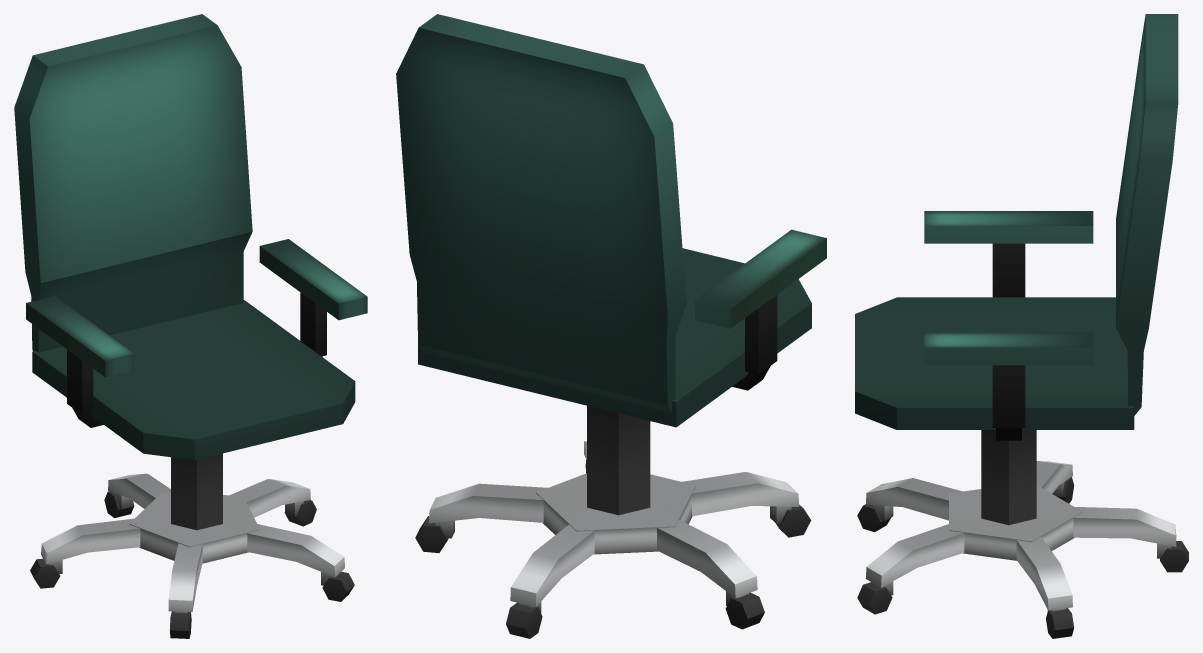
Rendered from Chair_Office_Turquoise.fbx.
3 renders of one model, left to right at view 1: azimuth 30°, elevation 25°; view 2: azimuth 150°, elevation 25°; view 3: azimuth 270°, elevation 25°, orthographic. The views are drawn at different scales.
Visible parts, largest first — view 1: Chair_Office_Turquoise; view 2: Chair_Office_Turquoise; view 3: Chair_Office_Turquoise.
Part boxes in pixels (x1,y1,x2,y2): Chair_Office_Turquoise: (14, 14, 367, 638); Chair_Office_Turquoise: (396, 14, 826, 638); Chair_Office_Turquoise: (855, 14, 1188, 638).
Bounding box in the file's own units: 69.71 × 112 × 66.73.
